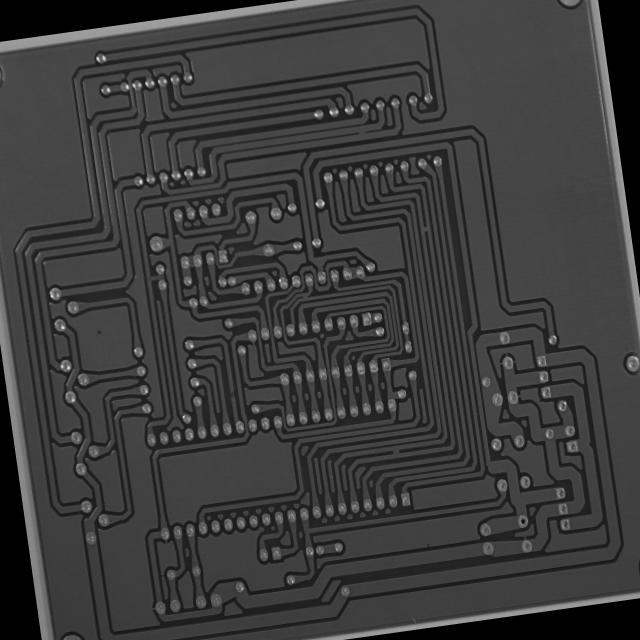short: (144, 267, 166, 289), (352, 124, 370, 142), (388, 442, 404, 458), (419, 220, 432, 236), (299, 291, 311, 302)
